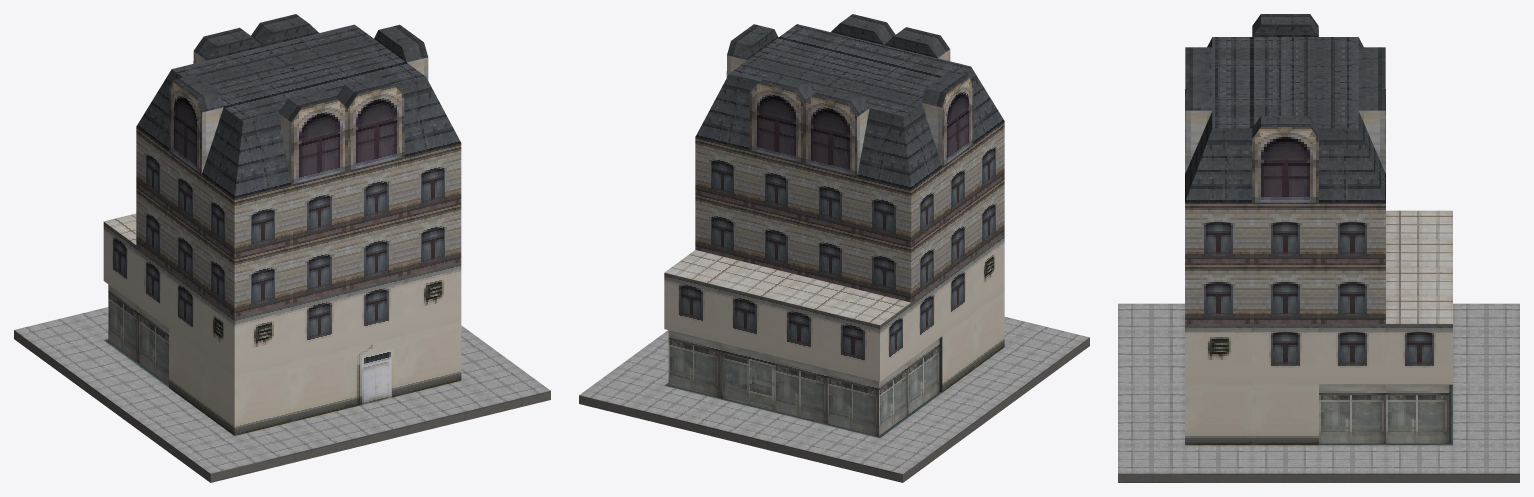
File: building_08_smooth.glb
3 renders of one model, left to right at view 1: azimuth 30°, elevation 25°; view 2: azimuth 150°, elevation 25°; view 3: azimuth 270°, elevation 25°, orthographic. The views are drawn at different scales.
Parts seen in each view (by area): view 1: building_08_smooth2; view 2: building_08_smooth2; view 3: building_08_smooth2.
Boxes of the visible parts, x1=… form: building_08_smooth2: x1=14, y1=14, x2=550, y2=482; building_08_smooth2: x1=579, y1=14, x2=1089, y2=482; building_08_smooth2: x1=1118, y1=14, x2=1519, y2=482.
Size of the model in its own units: 30 by 26.99 by 30.
Materials: 1 (1 with a texture image).
